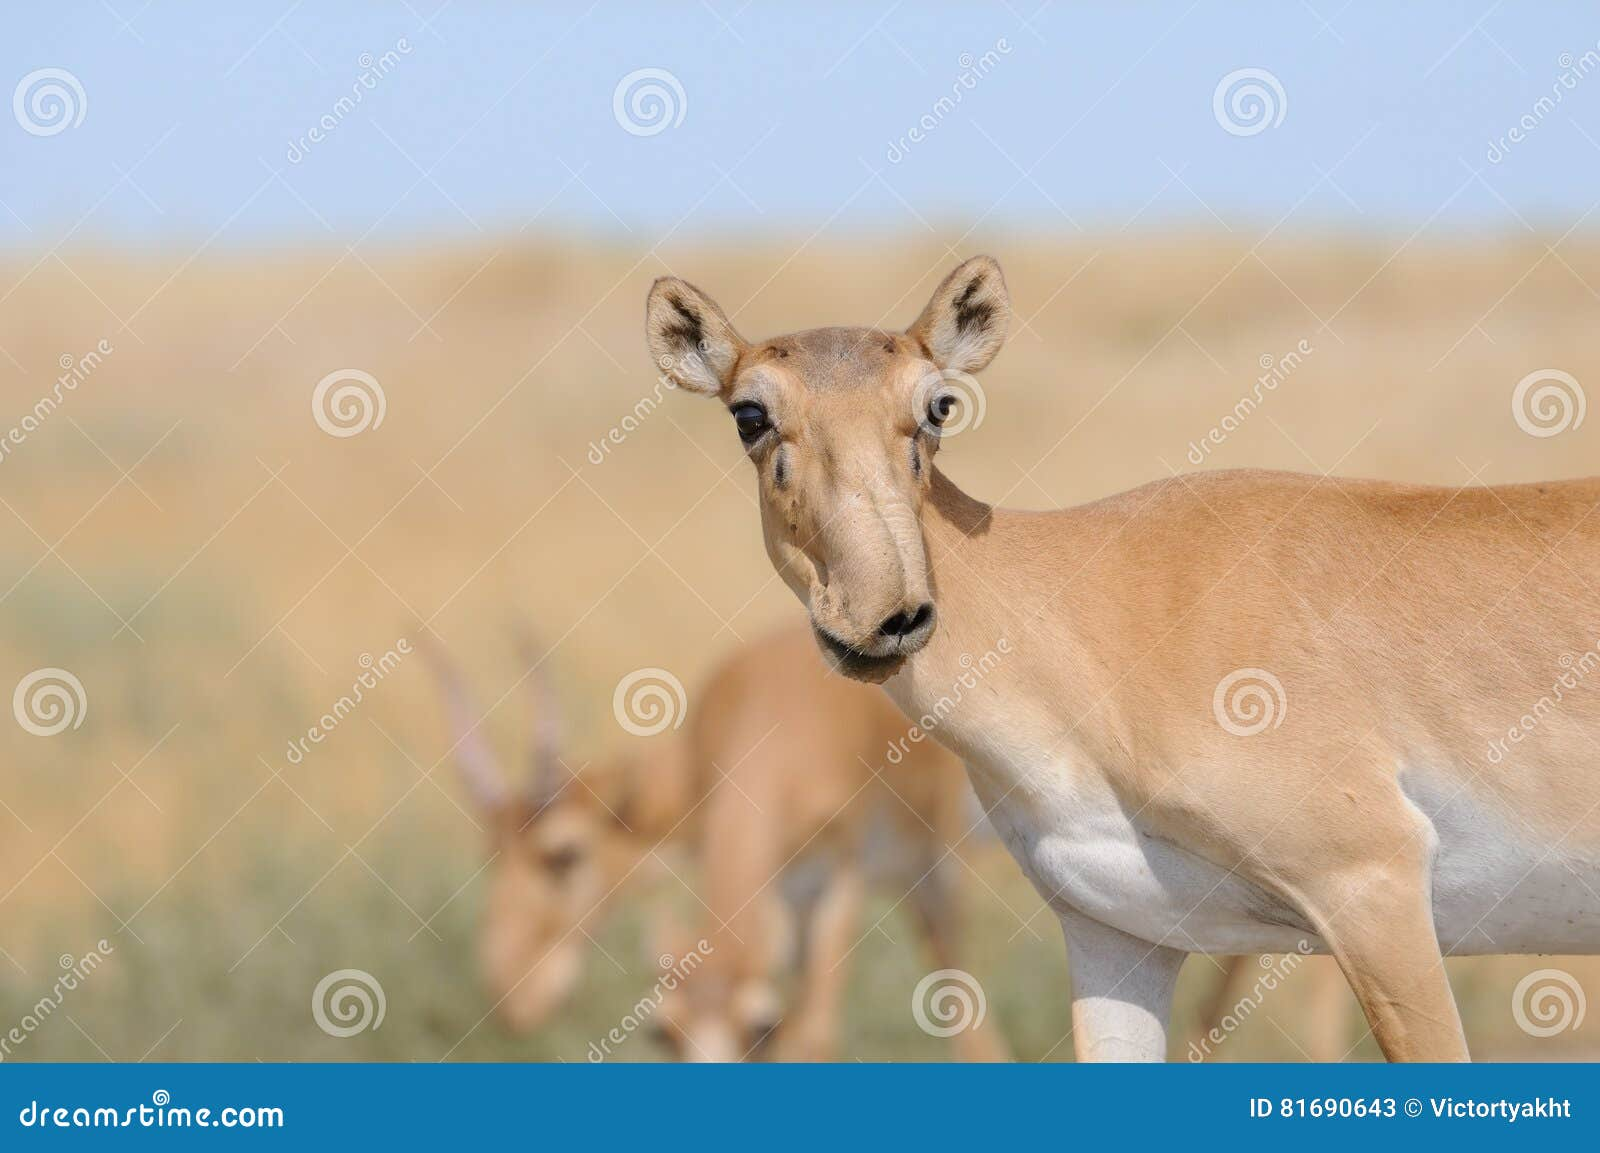saiga: (634, 256, 1600, 1083)
